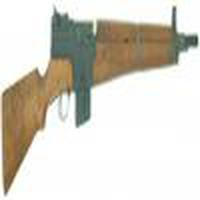gun: (1, 19, 194, 196)
